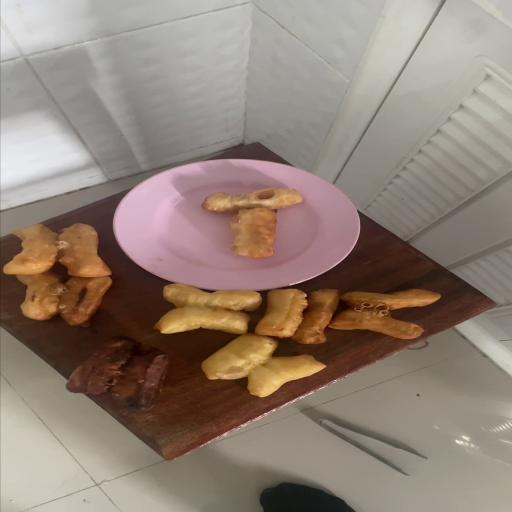street_burnt_defect: (67, 336, 166, 409)
